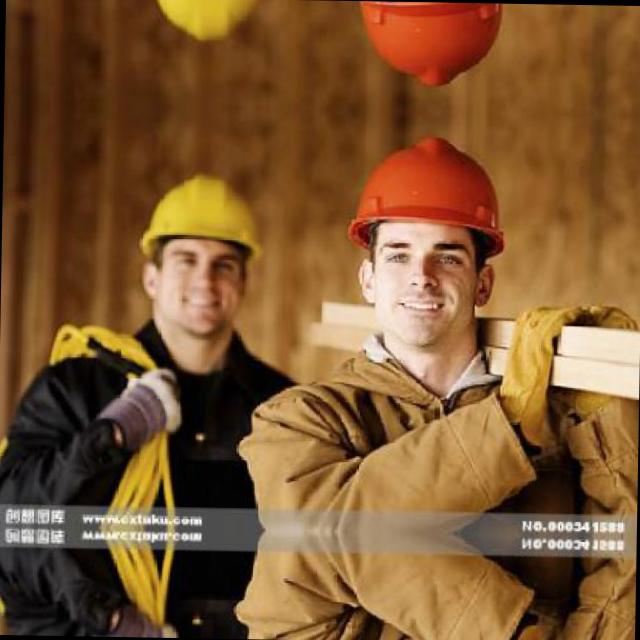helmet: (324, 120, 516, 360), (132, 158, 279, 364), (326, 0, 520, 99), (136, 0, 281, 54)
